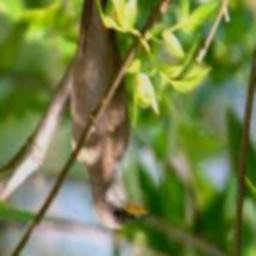Cuckoo: (71, 0, 153, 231)
